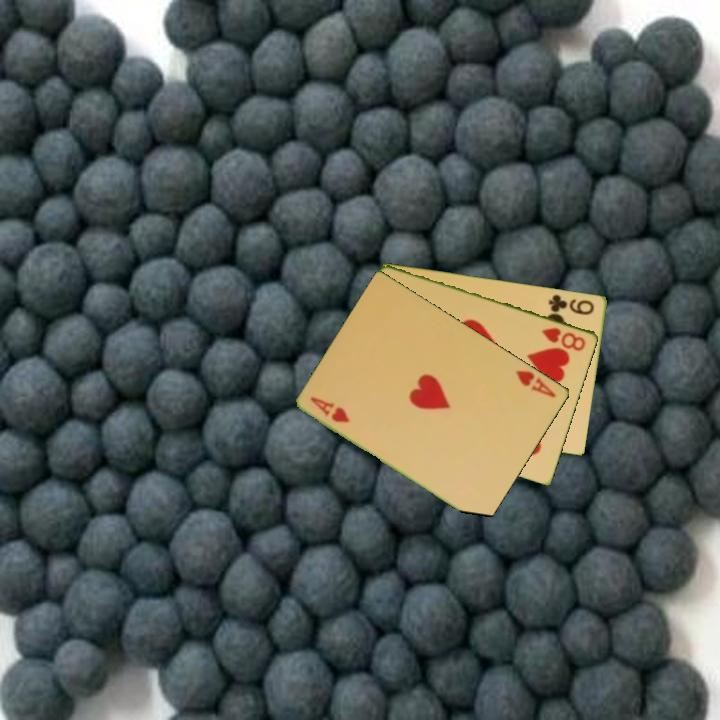8h: (539, 324, 589, 354)
9c: (545, 290, 597, 318)
Ah: (513, 367, 559, 401), (307, 393, 353, 426)
